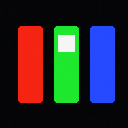1 square: (58, 35, 74, 51)
